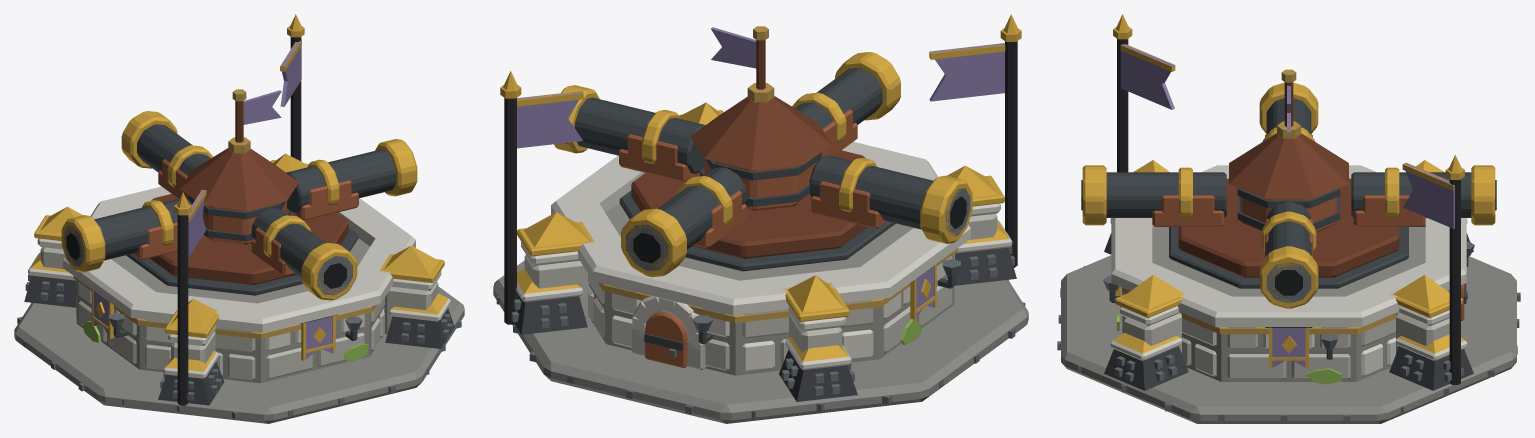
File: crossfire.glb
3 views of the same model, side by side, from view 1: azimuth 30°, elevation 25°; view 2: azimuth 150°, elevation 25°; view 3: azimuth 270°, elevation 25° (orthographic). The views are drawn at different scales.
Visible parts, largest first — view 1: BWAR_G_crossfire__Plinth, BWAR_G_crossfire__Cornice, BWAR_G_crossfire__HubRoof, BWAR_G_crossfire__Deck, BWAR_G_crossfire__RadialLauncher1Lv3, BWAR_G_crossfire__WallShell, BWAR_G_crossfire__RadialLauncher3Lv3, BWAR_G_crossfire__LauncherRing3Lv3, BWAR_G_crossfire__Standard5Pole, BWAR_G_crossfire__LauncherRing2Lv3, BWAR_G_crossfire__Core, BWAR_G_crossfire__Ring (+37 smaller); view 2: BWAR_G_crossfire__Plinth, BWAR_G_crossfire__Cornice, BWAR_G_crossfire__HubRoof, BWAR_G_crossfire__Deck, BWAR_G_crossfire__RadialLauncher1Lv3, BWAR_G_crossfire__RadialLauncher3Lv3, BWAR_G_crossfire__WallShell, BWAR_G_crossfire__LauncherRing0Lv3, BWAR_G_crossfire__LauncherRing3Lv3, BWAR_G_crossfire__Ring, BWAR_G_crossfire__Core, BWAR_G_crossfire__Standard5Flag (+50 smaller); view 3: BWAR_G_crossfire__Plinth, BWAR_G_crossfire__Cornice, BWAR_G_crossfire__Deck, BWAR_G_crossfire__HubRoof, BWAR_G_crossfire__RadialLauncher2Lv3, BWAR_G_crossfire__Core, BWAR_G_crossfire__WallShell, BWAR_G_crossfire__Ring, BWAR_G_crossfire__LauncherRing1Lv3, BWAR_G_crossfire__LauncherRing0Lv3, BWAR_G_crossfire__LauncherRing2Lv3, BWAR_G_crossfire__Standard1Pole (+38 smaller).
Boxes of the visible parts, x1,y1,x2,y2 form: BWAR_G_crossfire__Plinth: [14, 286, 464, 423]; BWAR_G_crossfire__Cornice: [63, 186, 415, 332]; BWAR_G_crossfire__HubRoof: [180, 148, 298, 210]; BWAR_G_crossfire__Deck: [150, 194, 348, 284]; BWAR_G_crossfire__RadialLauncher1Lv3: [286, 149, 396, 213]; BWAR_G_crossfire__WallShell: [76, 281, 384, 383]; BWAR_G_crossfire__RadialLauncher3Lv3: [94, 198, 192, 260]; BWAR_G_crossfire__LauncherRing3Lv3: [61, 200, 173, 272]; BWAR_G_crossfire__Standard5Pole: [177, 215, 188, 405]; BWAR_G_crossfire__LauncherRing2Lv3: [263, 215, 357, 300]; BWAR_G_crossfire__Core: [111, 238, 369, 303]; BWAR_G_crossfire__Ring: [126, 228, 358, 295]; BWAR_G_crossfire__Plinth: [493, 260, 1028, 423]; BWAR_G_crossfire__Cornice: [551, 141, 970, 315]; BWAR_G_crossfire__HubRoof: [690, 96, 831, 170]; BWAR_G_crossfire__Deck: [631, 150, 867, 258]; BWAR_G_crossfire__RadialLauncher1Lv3: [574, 97, 705, 173]; BWAR_G_crossfire__RadialLauncher3Lv3: [809, 155, 933, 229]; BWAR_G_crossfire__WallShell: [589, 254, 954, 375]; BWAR_G_crossfire__LauncherRing0Lv3: [621, 176, 732, 277]; BWAR_G_crossfire__LauncherRing3Lv3: [839, 158, 972, 243]; BWAR_G_crossfire__Ring: [619, 190, 895, 271]; BWAR_G_crossfire__Core: [605, 203, 913, 280]; BWAR_G_crossfire__Standard5Flag: [929, 43, 1004, 101]; BWAR_G_crossfire__Plinth: [1061, 255, 1516, 423]; BWAR_G_crossfire__Cornice: [1111, 165, 1466, 326]; BWAR_G_crossfire__Deck: [1178, 178, 1399, 277]; BWAR_G_crossfire__HubRoof: [1229, 133, 1348, 198]; BWAR_G_crossfire__RadialLauncher2Lv3: [1106, 172, 1226, 217]; BWAR_G_crossfire__Core: [1152, 227, 1425, 296]; BWAR_G_crossfire__WallShell: [1125, 317, 1395, 381]; BWAR_G_crossfire__Ring: [1169, 227, 1408, 288]; BWAR_G_crossfire__LauncherRing1Lv3: [1259, 211, 1318, 308]; BWAR_G_crossfire__LauncherRing0Lv3: [1385, 165, 1495, 225]; BWAR_G_crossfire__LauncherRing2Lv3: [1082, 165, 1192, 225]; BWAR_G_crossfire__Standard1Pole: [1449, 179, 1460, 384].
Size of the model in its own units: 1.93 by 1.19 by 1.93.
